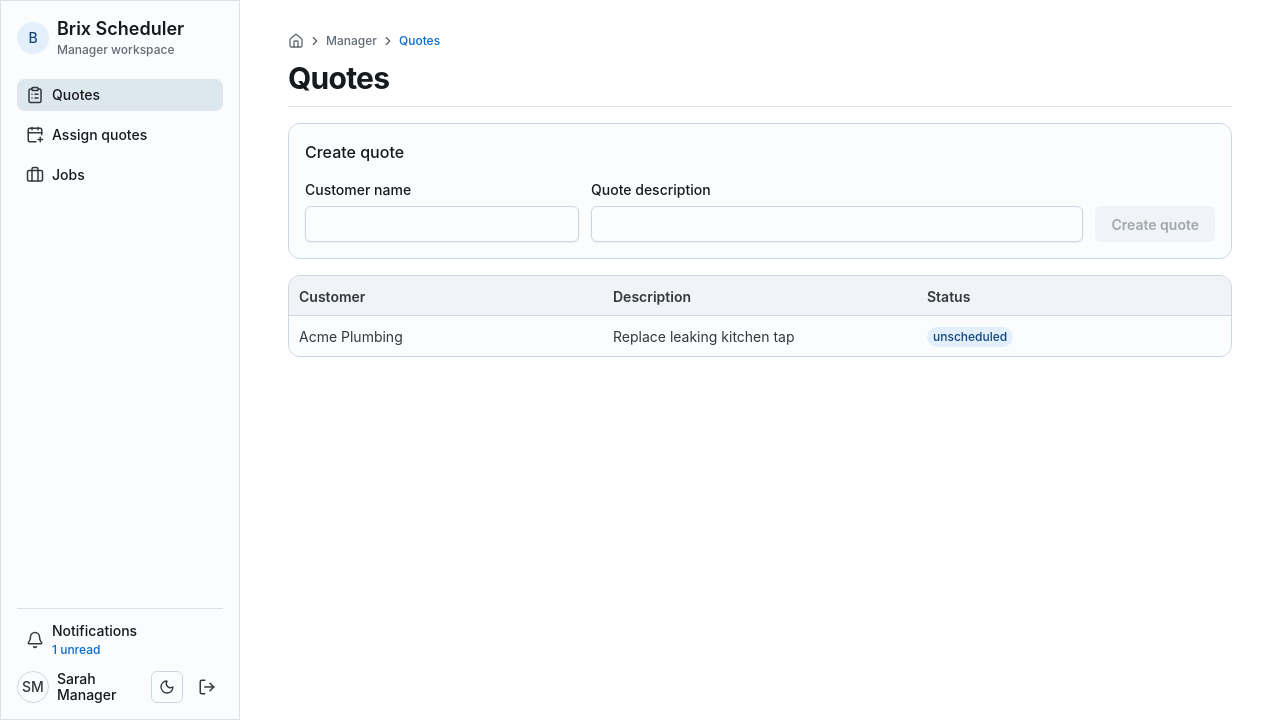
manager pages › Manager pages mark notifications as read and refresh the drawer count
The image size is (1280, 720).
Click the button with aria-label "Open notifications" at x=82, y=639, box [26,622,137,657]
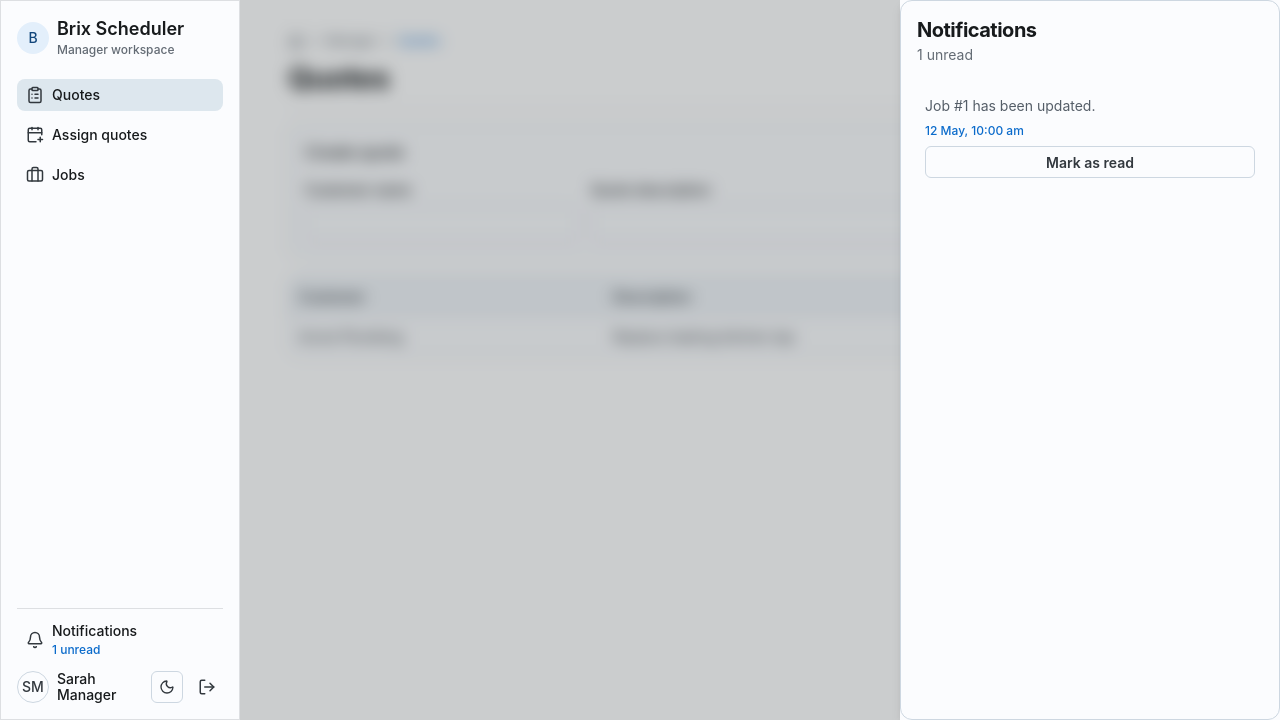
Click the button with aria-label "Mark notification 1 as read" at x=1090, y=162, box [925,146,1255,178]
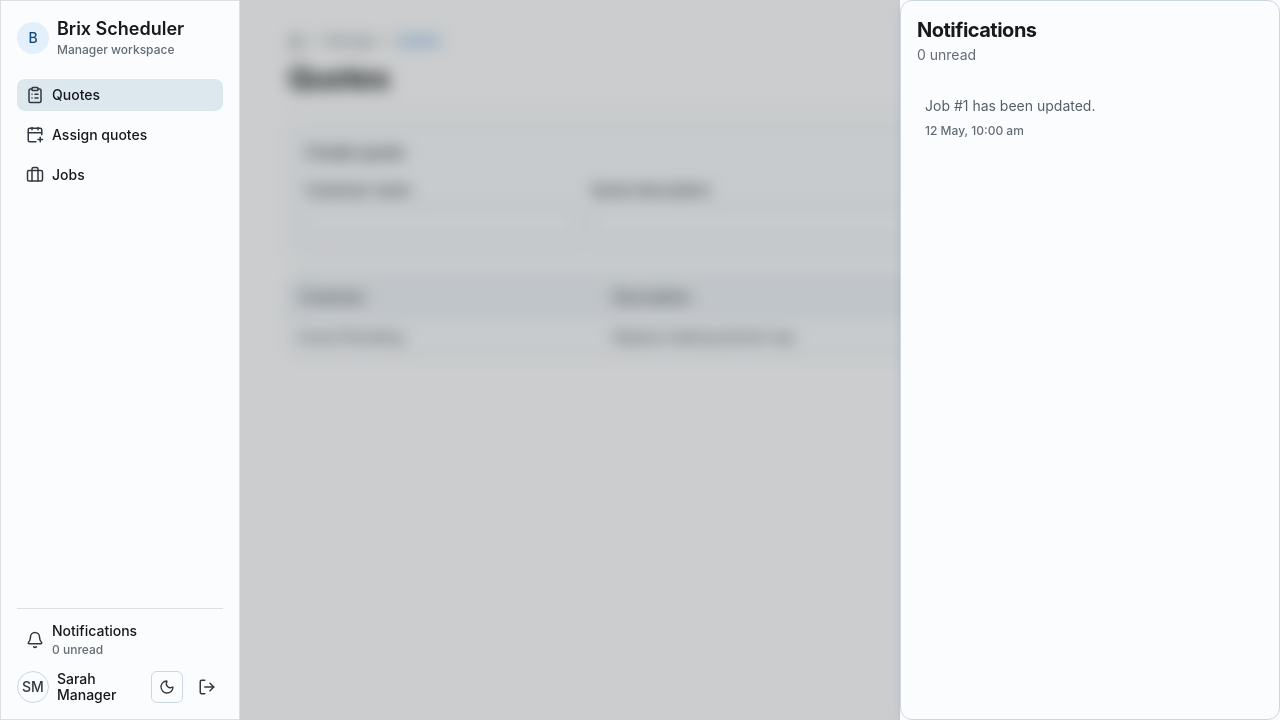
Check: the 2nd text "0 unread" is shown, box [52,642,103,657]
